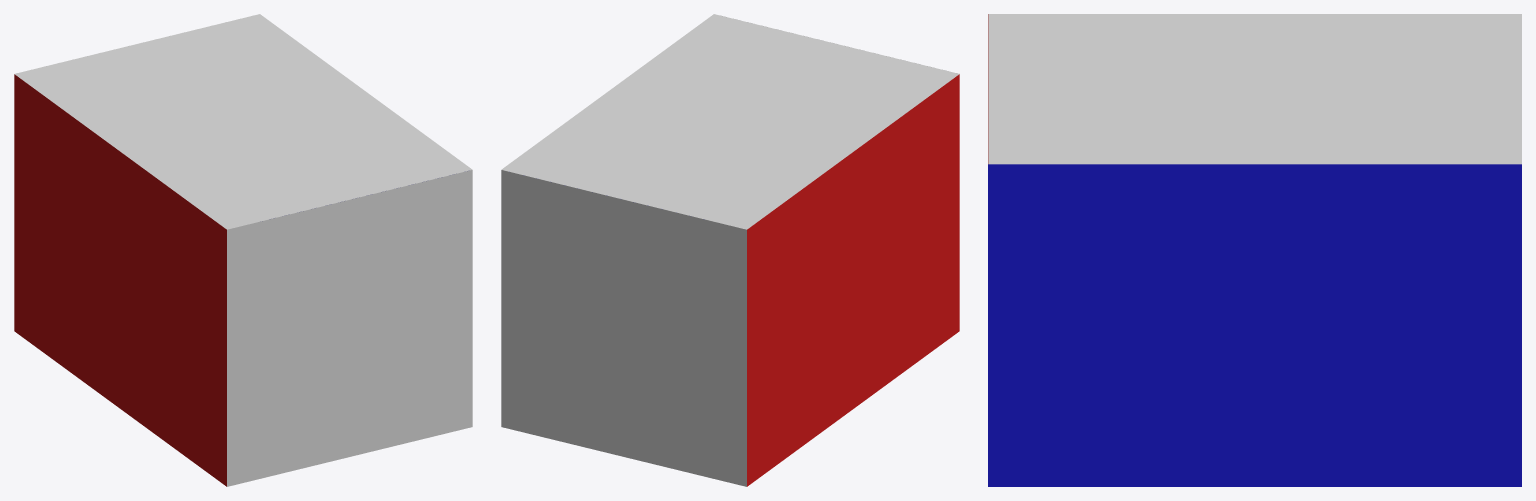
Rendered from cornellbox_1.obj.
3 renders of one model, left to right at view 1: azimuth 30°, elevation 25°; view 2: azimuth 150°, elevation 25°; view 3: azimuth 270°, elevation 25°, orthographic. The views are drawn at different scales.
Visible parts, largest first — view 1: Box_Cube, Wall0_Cube.001; view 2: Box_Cube, Wall0_Cube.001; view 3: Wall1_Cube.002, Box_Cube.
Boxes of the visible parts, left/top/right/bottom form: Box_Cube: left=14, top=14, right=472, bottom=486; Wall0_Cube.001: left=14, top=74, right=226, bottom=486; Box_Cube: left=501, top=14, right=959, bottom=486; Wall0_Cube.001: left=747, top=74, right=959, bottom=486; Wall1_Cube.002: left=988, top=164, right=1521, bottom=486; Box_Cube: left=988, top=14, right=1521, bottom=164.
Size of the model in its own units: 2 by 2 by 3.
